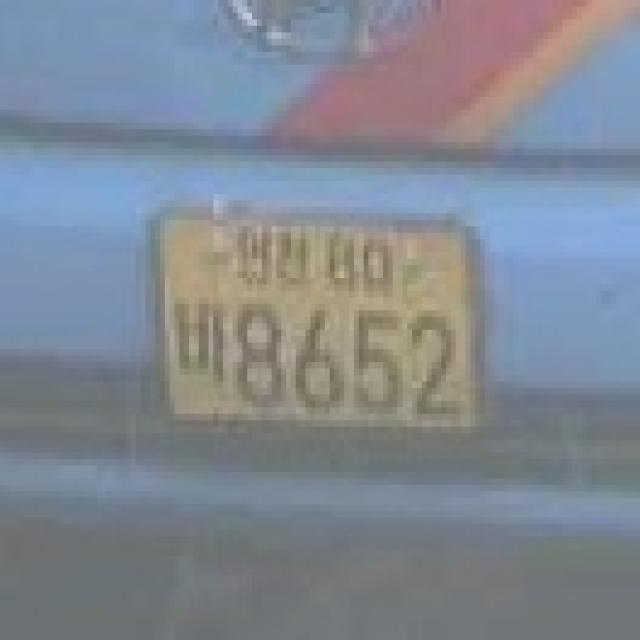plat: (146, 200, 489, 433)
